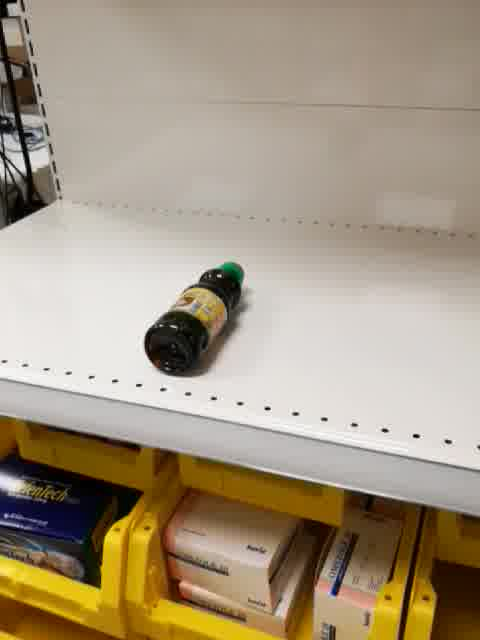cookingoil: (141, 258, 246, 378)
